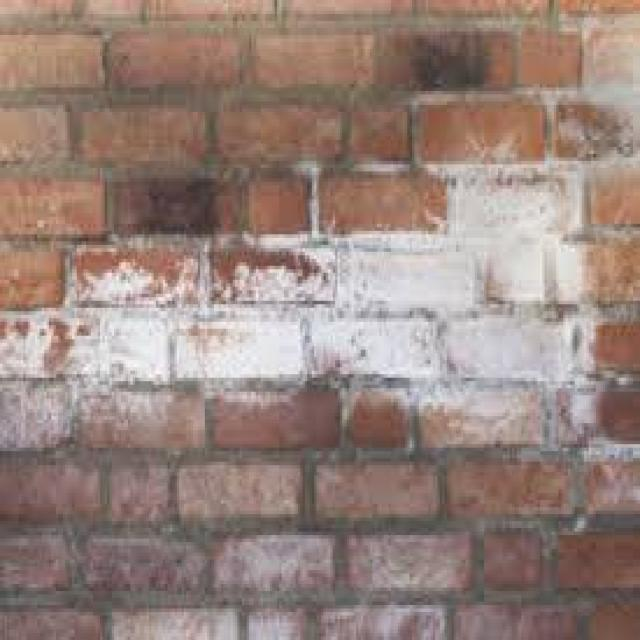efflorescence: (0, 0, 637, 528)
